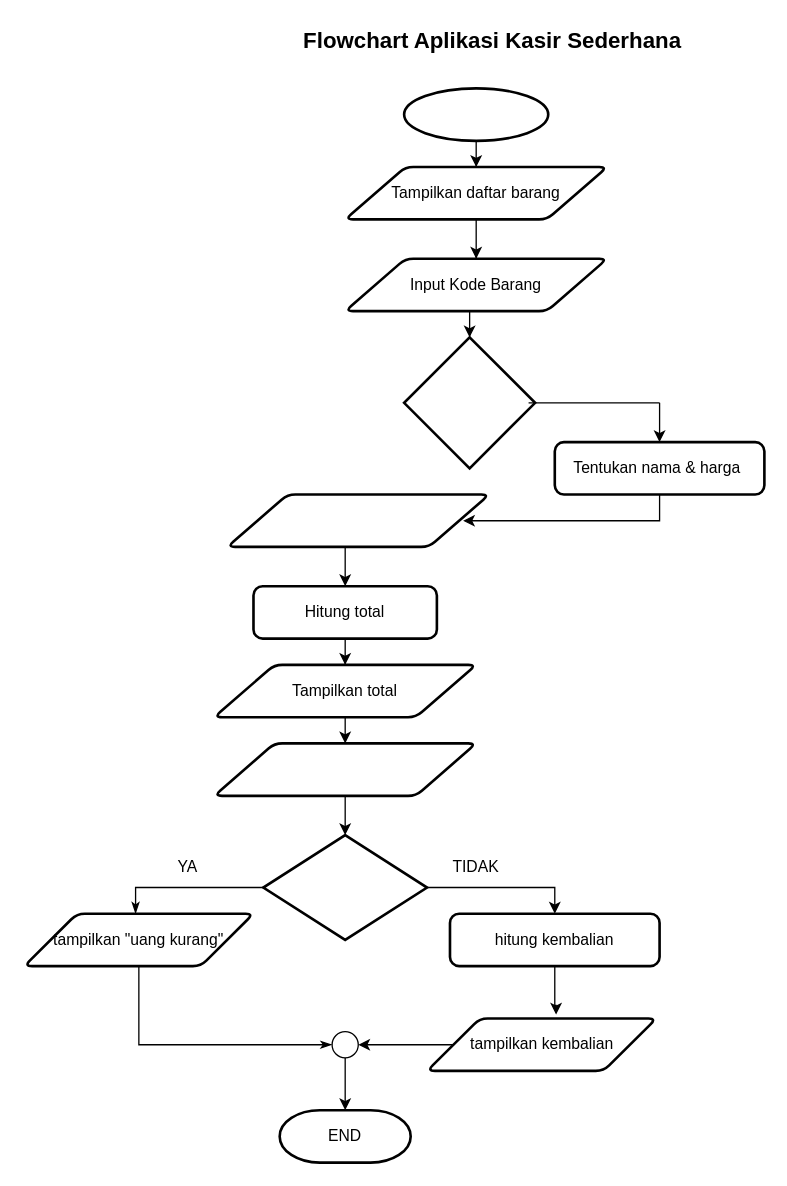
Some shapes in this 787 by 1186 pixel diagram are drawn without their labels. The centre of each missing label's shape, as x and y in pixels:
"IF bayar < total?" goes at point 344,887.
"Input jumlah beli" goes at point 357,520.
"Input uang bayar" goes at point 344,768.
"Strart" goes at point 475,113.
"Switch (kode barang)" goes at point 469,402.
